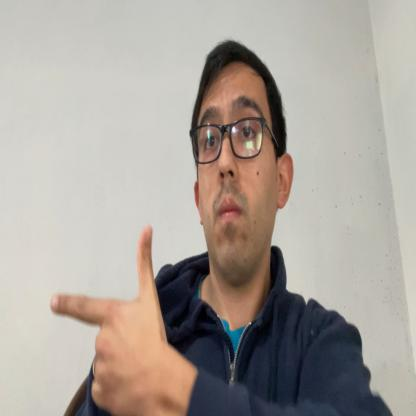G: (50, 223, 161, 415)
